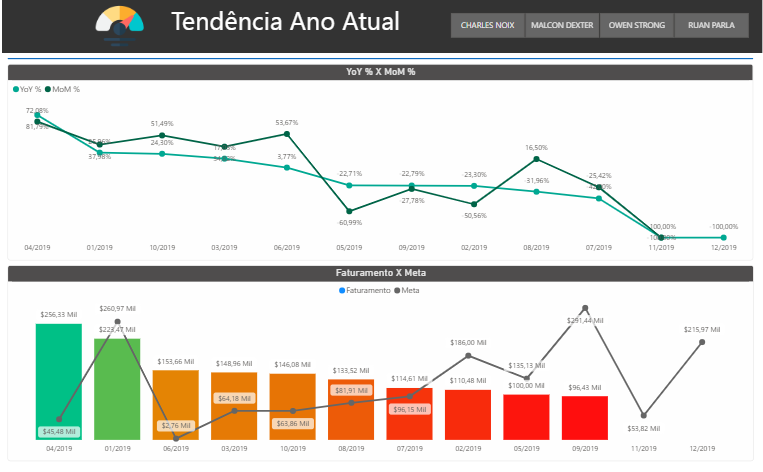

The dashboard page shown, as its layout file describes it:
{"tool":"powerbi","page":{"name":"TendênciaAnual","canvas":[1280,810],"ordinal":2},"visuals":[{"type":"textbox","box":[0,0,1280.2,90.7],"z":0},{"type":"image","box":[118.3,0,158.8,90.7],"z":1000},{"type":"shape","box":[10.1,85,1255.7,30.2],"z":2000},{"type":"lineChart","title":"YoY % X MoM % ","fields":{"Category":["DIM_CALENDARIO.MesAno"],"Y":["Medidas.YoY %","Medidas.MoM %"]},"box":[9.7,108.5,1255.5,330.5],"z":3000},{"type":"lineClusteredColumnComboChart","title":"Faturamento X Meta","fields":{"Category":["DIM_CALENDARIO.MesAno"],"Y":["Medidas.Faturamento"],"Y2":["Medidas.Meta"]},"box":[10,449,1256,330],"z":4000},{"type":"slicer","fields":{"Values":["DIM_VENDEDOR.NOME"]},"box":[729,16.2,550.8,55.1],"z":5000}]}

Visuals, with their boxes in screenshot pixels (x1, y1, x2, y2), scaled from the page's 1280x810 canvas onto the 763x472 screenshot:
textbox: 0:0:762:53
image: 71:0:165:53
shape: 6:50:755:67
"YoY % X MoM % " lineChart: 6:63:754:256
"Faturamento X Meta" lineClusteredColumnComboChart: 6:262:755:454
slicer - DIM_VENDEDOR.NOME: 435:9:762:42
